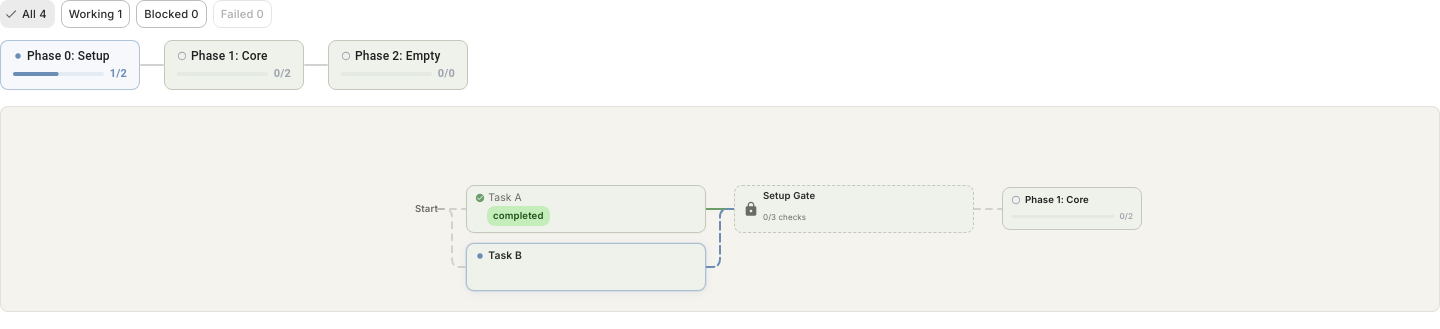
Test: Pipeline: single expansion › collapses the expanded phase when clicking it again
The image size is (1440, 329).
Expected: the text "Task A" is shown, [488, 191, 522, 204]
Click the button with test id "phase-card" showing "Phase 0: Setup 1/2": x=70, y=65 [0, 40, 140, 90]
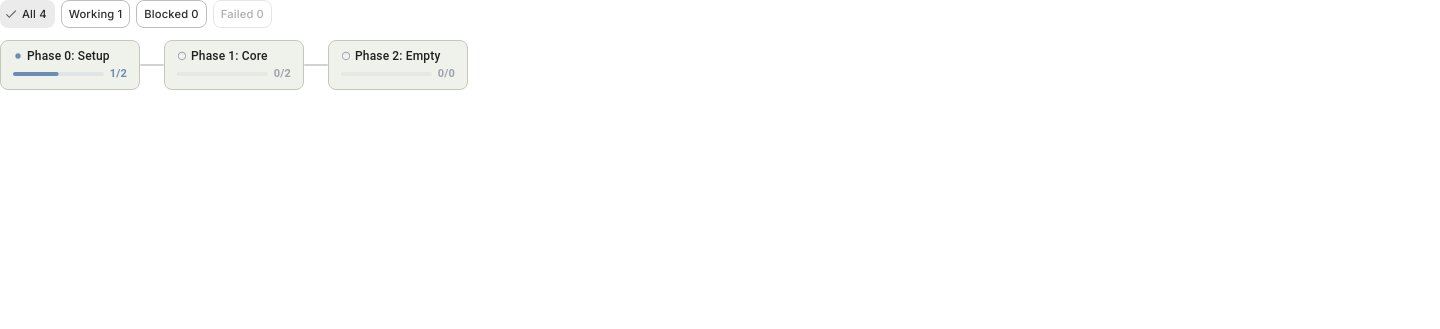
Now the text "Task A" is gone
